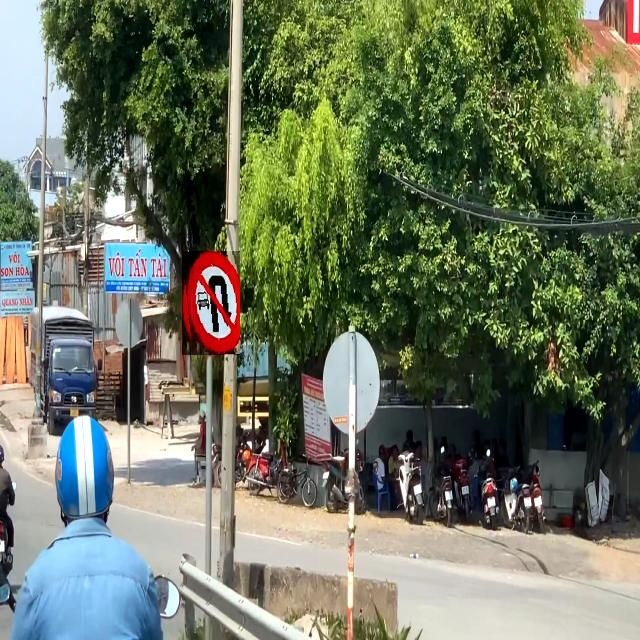bien_cam: (182, 251, 240, 355)
